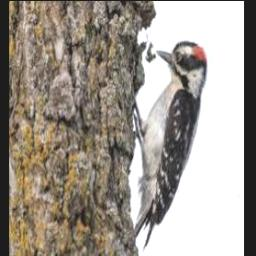Woodpecker: (133, 41, 208, 253)
